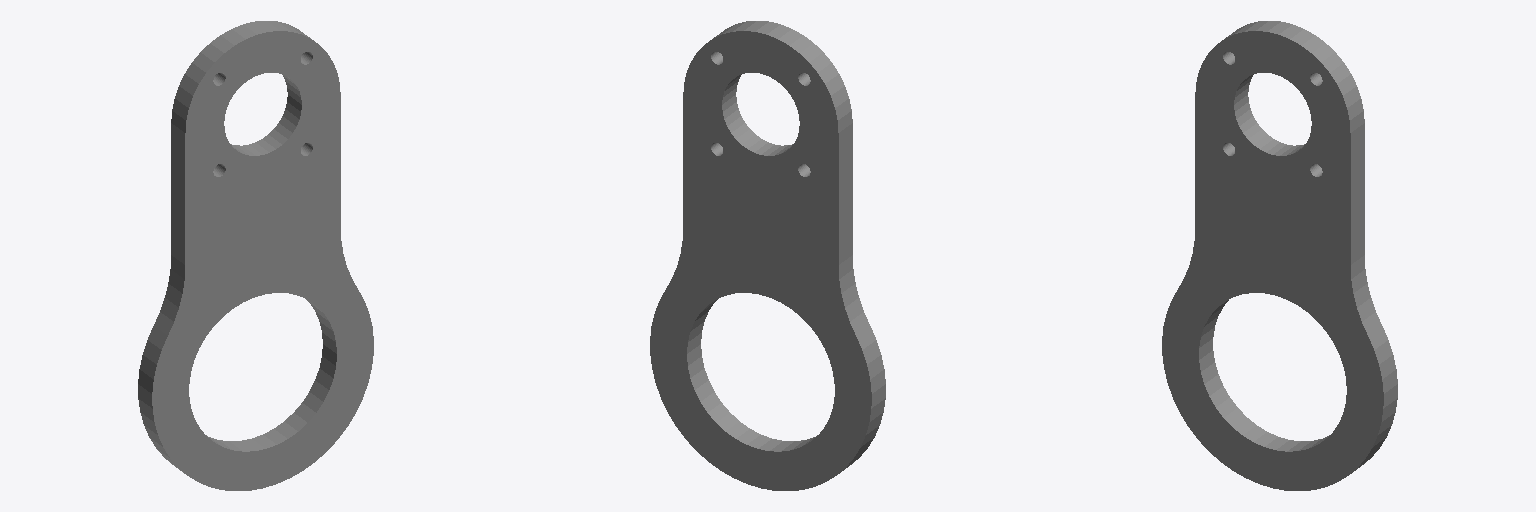
robot.urdf — ur10_caging_end_effector:
<?xml version="1.0" ?>
<!-- =================================================================================== -->
<!-- |    This document was autogenerated by xacro from ur10_caging_end_effector.xacro | -->
<!-- |    EDITING THIS FILE BY HAND IS NOT RECOMMENDED                                 | -->
<!-- =================================================================================== -->
<robot name="ur10_caging_end_effector" xmlns:xacro="http://wiki.ros.org/xacro">
  <!--
  Author: [author]
  Contributers: [author], [author], [author]
-->
  <!-- measured from model -->
  <link name="base_link">
    <visual>
      <geometry>
        <mesh filename="package://ur_description/meshes/ur10/visual/base.dae"/>
      </geometry>
      <material name="LightGrey">
        <color rgba="0.7 0.7 0.7 1.0"/>
      </material>
    </visual>
    <collision>
      <geometry>
        <mesh filename="package://ur_description/meshes/ur10/collision/base.stl"/>
      </geometry>
    </collision>
    <inertial>
      <mass value="4.0"/>
      <origin rpy="0 0 0" xyz="0.0 0.0 0.0"/>
      <inertia ixx="0.0061063308908" ixy="0.0" ixz="0.0" iyy="0.0061063308908" iyz="0.0" izz="0.01125"/>
    </inertial>
  </link>
  <joint name="shoulder_pan_joint" type="revolute">
    <parent link="base_link"/>
    <child link="shoulder_link"/>
    <origin rpy="0.0 0.0 0.0" xyz="0.0 0.0 0.1273"/>
    <axis xyz="0 0 1"/>
    <limit effort="330.0" lower="-3.14159265359" upper="3.14159265359" velocity="2.16"/>
    <dynamics damping="0.0" friction="0.0"/>
  </joint>
  <link name="shoulder_link">
    <visual>
      <geometry>
        <mesh filename="package://ur_description/meshes/ur10/visual/shoulder.dae"/>
      </geometry>
      <material name="LightGrey">
        <color rgba="0.7 0.7 0.7 1.0"/>
      </material>
    </visual>
    <collision>
      <geometry>
        <mesh filename="package://ur_description/meshes/ur10/collision/shoulder.stl"/>
      </geometry>
    </collision>
    <inertial>
      <mass value="7.778"/>
      <origin rpy="0 0 0" xyz="0.0 0.0 0.0"/>
      <inertia ixx="0.0314743125769" ixy="0.0" ixz="0.0" iyy="0.0314743125769" iyz="0.0" izz="0.021875625"/>
    </inertial>
  </link>
  <joint name="shoulder_lift_joint" type="revolute">
    <parent link="shoulder_link"/>
    <child link="upper_arm_link"/>
    <origin rpy="0.0 1.57079632679 0.0" xyz="0.0 0.220941 0.0"/>
    <axis xyz="0 1 0"/>
    <limit effort="330.0" lower="-3.14159265359" upper="3.14159265359" velocity="2.16"/>
    <dynamics damping="0.0" friction="0.0"/>
  </joint>
  <link name="upper_arm_link">
    <visual>
      <geometry>
        <mesh filename="package://ur_description/meshes/ur10/visual/upperarm.dae"/>
      </geometry>
      <material name="LightGrey">
        <color rgba="0.7 0.7 0.7 1.0"/>
      </material>
    </visual>
    <collision>
      <geometry>
        <mesh filename="package://ur_description/meshes/ur10/collision/upperarm.stl"/>
      </geometry>
    </collision>
    <inertial>
      <mass value="12.93"/>
      <origin rpy="0 0 0" xyz="0.0 0.0 0.306"/>
      <inertia ixx="0.421753803798" ixy="0.0" ixz="0.0" iyy="0.421753803798" iyz="0.0" izz="0.036365625"/>
    </inertial>
  </link>
  <joint name="elbow_joint" type="revolute">
    <parent link="upper_arm_link"/>
    <child link="forearm_link"/>
    <origin rpy="0.0 0.0 0.0" xyz="0.0 -0.1719 0.612"/>
    <axis xyz="0 1 0"/>
    <limit effort="150.0" lower="-3.14159265359" upper="3.14159265359" velocity="3.15"/>
    <dynamics damping="0.0" friction="0.0"/>
  </joint>
  <link name="forearm_link">
    <visual>
      <geometry>
        <mesh filename="package://ur_description/meshes/ur10/visual/forearm.dae"/>
      </geometry>
      <material name="LightGrey">
        <color rgba="0.7 0.7 0.7 1.0"/>
      </material>
    </visual>
    <collision>
      <geometry>
        <mesh filename="package://ur_description/meshes/ur10/collision/forearm.stl"/>
      </geometry>
    </collision>
    <inertial>
      <mass value="3.87"/>
      <origin rpy="0 0 0" xyz="0.0 0.0 0.28615"/>
      <inertia ixx="0.111069694097" ixy="0.0" ixz="0.0" iyy="0.111069694097" iyz="0.0" izz="0.010884375"/>
    </inertial>
  </link>
  <joint name="wrist_1_joint" type="revolute">
    <parent link="forearm_link"/>
    <child link="wrist_1_link"/>
    <origin rpy="0.0 1.57079632679 0.0" xyz="0.0 0.0 0.5723"/>
    <axis xyz="0 1 0"/>
    <limit effort="54.0" lower="-3.14159265359" upper="3.14159265359" velocity="3.2"/>
    <dynamics damping="0.0" friction="0.0"/>
  </joint>
  <link name="wrist_1_link">
    <visual>
      <geometry>
        <mesh filename="package://ur_description/meshes/ur10/visual/wrist1.dae"/>
      </geometry>
      <material name="LightGrey">
        <color rgba="0.7 0.7 0.7 1.0"/>
      </material>
    </visual>
    <collision>
      <geometry>
        <mesh filename="package://ur_description/meshes/ur10/collision/wrist1.stl"/>
      </geometry>
    </collision>
    <inertial>
      <mass value="1.96"/>
      <origin rpy="0 0 0" xyz="0.0 0.0 0.0"/>
      <inertia ixx="0.0051082479567" ixy="0.0" ixz="0.0" iyy="0.0051082479567" iyz="0.0" izz="0.0055125"/>
    </inertial>
  </link>
  <joint name="wrist_2_joint" type="revolute">
    <parent link="wrist_1_link"/>
    <child link="wrist_2_link"/>
    <origin rpy="0.0 0.0 0.0" xyz="0.0 0.1149 0.0"/>
    <axis xyz="0 0 1"/>
    <limit effort="54.0" lower="-3.14159265359" upper="3.14159265359" velocity="3.2"/>
    <dynamics damping="0.0" friction="0.0"/>
  </joint>
  <link name="wrist_2_link">
    <visual>
      <geometry>
        <mesh filename="package://ur_description/meshes/ur10/visual/wrist2.dae"/>
      </geometry>
      <material name="LightGrey">
        <color rgba="0.7 0.7 0.7 1.0"/>
      </material>
    </visual>
    <collision>
      <geometry>
        <mesh filename="package://ur_description/meshes/ur10/collision/wrist2.stl"/>
      </geometry>
    </collision>
    <inertial>
      <mass value="1.96"/>
      <origin rpy="0 0 0" xyz="0.0 0.0 0.0"/>
      <inertia ixx="0.0051082479567" ixy="0.0" ixz="0.0" iyy="0.0051082479567" iyz="0.0" izz="0.0055125"/>
    </inertial>
  </link>
  <joint name="wrist_3_joint" type="revolute">
    <parent link="wrist_2_link"/>
    <child link="wrist_3_link"/>
    <origin rpy="0.0 0.0 0.0" xyz="0.0 0.0 0.1157"/>
    <axis xyz="0 1 0"/>
    <limit effort="54.0" lower="-3.14159265359" upper="3.14159265359" velocity="3.2"/>
    <dynamics damping="0.0" friction="0.0"/>
  </joint>
  <link name="wrist_3_link">
    <visual>
      <geometry>
        <mesh filename="package://ur_description/meshes/ur10/visual/wrist3.dae"/>
      </geometry>
      <material name="LightGrey">
        <color rgba="0.7 0.7 0.7 1.0"/>
      </material>
    </visual>
    <collision>
      <geometry>
        <mesh filename="package://ur_description/meshes/ur10/collision/wrist3.stl"/>
      </geometry>
    </collision>
    <inertial>
      <mass value="0.202"/>
      <origin rpy="0 0 0" xyz="0.0 0.0 0.0"/>
      <inertia ixx="0.000526462289415" ixy="0.0" ixz="0.0" iyy="0.000526462289415" iyz="0.0" izz="0.000568125"/>
    </inertial>
  </link>
  <joint name="ee_fixed_joint" type="fixed">
    <parent link="wrist_3_link"/>
    <child link="ee_link"/>
    <origin rpy="0.0 0.0 1.57079632679" xyz="0.0 0.0922 0.0"/>
  </joint>
  <link name="ee_link">
    <collision>
      <geometry>
        <box size="0.01 0.01 0.01"/>
      </geometry>
      <origin rpy="0 0 0" xyz="-0.01 0 0"/>
    </collision>
  </link>
  <transmission name="shoulder_pan_trans">
    <type>transmission_interface/SimpleTransmission</type>
    <joint name="shoulder_pan_joint">
      <hardwareInterface>hardware_interface/PositionJointInterface</hardwareInterface>
    </joint>
    <actuator name="shoulder_pan_motor">
      <mechanicalReduction>1</mechanicalReduction>
    </actuator>
  </transmission>
  <transmission name="shoulder_lift_trans">
    <type>transmission_interface/SimpleTransmission</type>
    <joint name="shoulder_lift_joint">
      <hardwareInterface>hardware_interface/PositionJointInterface</hardwareInterface>
    </joint>
    <actuator name="shoulder_lift_motor">
      <mechanicalReduction>1</mechanicalReduction>
    </actuator>
  </transmission>
  <transmission name="elbow_trans">
    <type>transmission_interface/SimpleTransmission</type>
    <joint name="elbow_joint">
      <hardwareInterface>hardware_interface/PositionJointInterface</hardwareInterface>
    </joint>
    <actuator name="elbow_motor">
      <mechanicalReduction>1</mechanicalReduction>
    </actuator>
  </transmission>
  <transmission name="wrist_1_trans">
    <type>transmission_interface/SimpleTransmission</type>
    <joint name="wrist_1_joint">
      <hardwareInterface>hardware_interface/PositionJointInterface</hardwareInterface>
    </joint>
    <actuator name="wrist_1_motor">
      <mechanicalReduction>1</mechanicalReduction>
    </actuator>
  </transmission>
  <transmission name="wrist_2_trans">
    <type>transmission_interface/SimpleTransmission</type>
    <joint name="wrist_2_joint">
      <hardwareInterface>hardware_interface/PositionJointInterface</hardwareInterface>
    </joint>
    <actuator name="wrist_2_motor">
      <mechanicalReduction>1</mechanicalReduction>
    </actuator>
  </transmission>
  <transmission name="wrist_3_trans">
    <type>transmission_interface/SimpleTransmission</type>
    <joint name="wrist_3_joint">
      <hardwareInterface>hardware_interface/PositionJointInterface</hardwareInterface>
    </joint>
    <actuator name="wrist_3_motor">
      <mechanicalReduction>1</mechanicalReduction>
    </actuator>
  </transmission>
  <gazebo reference="shoulder_link">
    <selfCollide>true</selfCollide>
  </gazebo>
  <gazebo reference="upper_arm_link">
    <selfCollide>true</selfCollide>
  </gazebo>
  <gazebo reference="forearm_link">
    <selfCollide>true</selfCollide>
  </gazebo>
  <gazebo reference="wrist_1_link">
    <selfCollide>true</selfCollide>
  </gazebo>
  <gazebo reference="wrist_3_link">
    <selfCollide>true</selfCollide>
  </gazebo>
  <gazebo reference="wrist_2_link">
    <selfCollide>true</selfCollide>
  </gazebo>
  <gazebo reference="ee_link">
    <selfCollide>true</selfCollide>
  </gazebo>
  <!-- ROS base_link to UR 'Base' Coordinates transform -->
  <link name="base"/>
  <joint name="base_link-base_fixed_joint" type="fixed">
    <!-- NOTE: this rotation is only needed as long as base_link itself is
                 not corrected wrt the real robot (ie: rotated over 180
                 degrees)
      -->
    <origin rpy="0 0 -3.14159265359" xyz="0 0 0"/>
    <parent link="base_link"/>
    <child link="base"/>
  </joint>
  <!-- Frame coincident with all-zeros TCP on UR controller -->
  <link name="tool0"/>
  <joint name="wrist_3_link-tool0_fixed_joint" type="fixed">
    <origin rpy="-1.57079632679 0 0" xyz="0 0.0922 0"/>
    <parent link="wrist_3_link"/>
    <child link="tool0"/>
  </joint>
  <!-- Create a fixed joint with a parameterized name. -->
  <joint name="caging_end_effector_joint" type="fixed">
    <!-- The parent link must be read from the robot model it is attached to. -->
    <parent link="tool0"/>
    <child link="caging_end_effector"/>
    <!-- The tool is directly attached to the flange. -->
    <origin rpy="0 0 0" xyz="0 0 0"/>
  </joint>
  <link name="caging_end_effector">
    <visual>
      <geometry>
        <!-- The path to the visual meshes in the package. -->
        <mesh filename="package://ur_end_effector/meshes/caging_end_effector/visual/caging_end_effector.dae"/>
      </geometry>
    </visual>
    <collision>
      <geometry>
        <!-- The path to the collision meshes in the package. -->
        <mesh filename="package://ur_end_effector/meshes/caging_end_effector/collision/caging_end_effector.stl"/>
      </geometry>
    </collision>
  </link>
  <!-- TCP frame -->
  <joint name="tcp_joint" type="fixed">
    <origin rpy="0 0 0" xyz="0 0 0.1"/>
    <parent link="caging_end_effector"/>
    <child link="tcp"/>
  </joint>
  <link name="tcp"/>
  <!-- define the ur10's position and orientation in the world coordinate system -->
  <link name="world"/>
  <joint name="world_joint" type="fixed">
    <parent link="world"/>
    <child link="base_link"/>
    <!-- TODO: check base_link name of robot -->
    <origin rpy="0.0 0.0 0.0" xyz="0.0 0.0 0.0"/>
  </joint>
</robot>

--- Facts derived from the render (not from the file) ---
The picture shows the robot from 3 angles, left to right: view 1: azimuth 30°, elevation 25°; view 2: azimuth 150°, elevation 25°; view 3: azimuth 330°, elevation 25°; orthographic projection.
Robot: ur10_caging_end_effector — 13 links, 12 joints (6 revolute, 6 fixed); root link world; default pose: all joints at 0.
Links seen in each view (by area): view 1: caging_end_effector; view 2: caging_end_effector; view 3: caging_end_effector.
Boxes of the visible links, left/top/right/bottom form: caging_end_effector: left=138, top=21, right=373, bottom=490; caging_end_effector: left=650, top=21, right=885, bottom=490; caging_end_effector: left=1162, top=21, right=1397, bottom=490.
Size in the robot's own frame: 0.0899 by 0.01 by 0.1764 metres.
Meshes: 8 distinct files referenced, 1 mesh visuals loaded (1 Collada DAE); not drawn: 7 (reference not matched to a file when rendering).